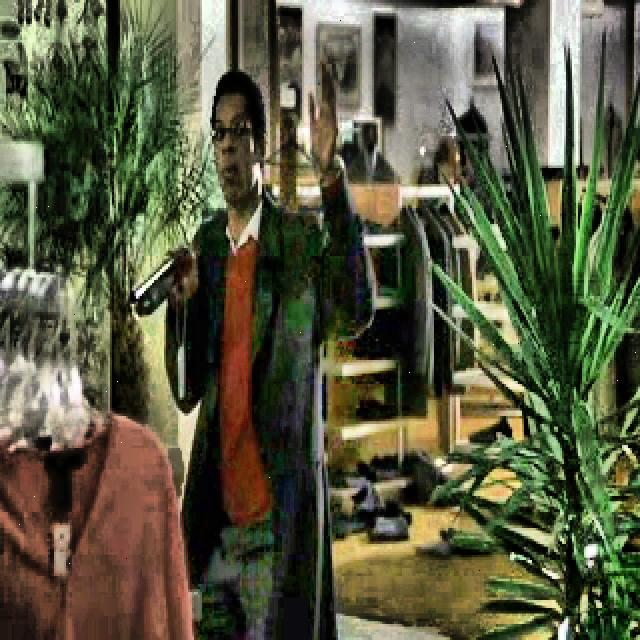L: (128, 55, 374, 634)
